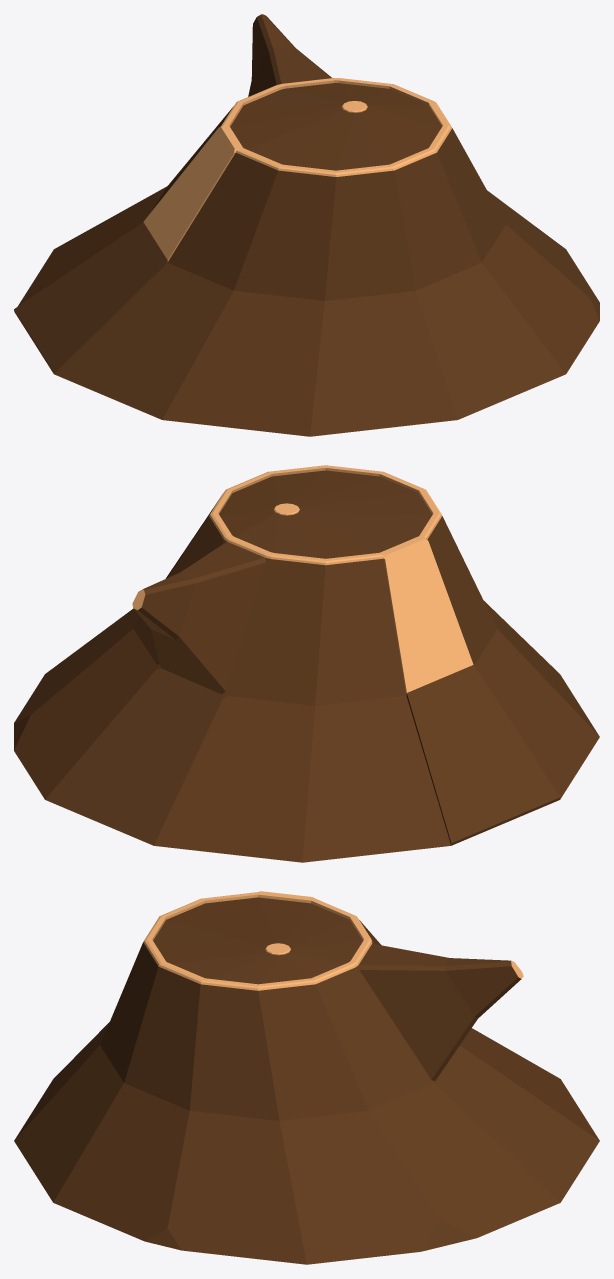
Rendered from Trunk.glb.
3 views of the same model, one above another, from view 1: azimuth 30°, elevation 25°; view 2: azimuth 150°, elevation 25°; view 3: azimuth 270°, elevation 25° (orthographic).
Parts seen in each view (by area): view 1: Kind; view 2: Kind; view 3: Kind.
Part boxes in pixels (box(x1,y1,x2,y2)): Kind: box(14, 14, 599, 436); Kind: box(14, 465, 599, 862); Kind: box(14, 891, 599, 1264).
Bounding box in the file's own units: 1.44 × 0.5633 × 1.44.
